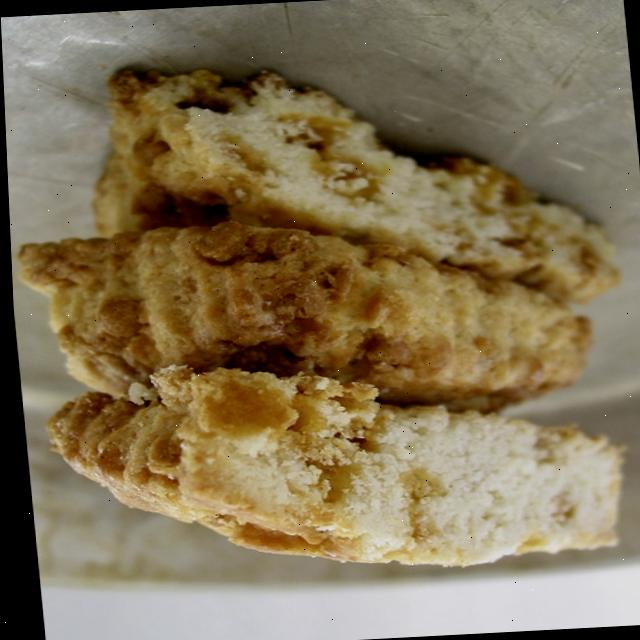面包点心: (0, 10, 640, 621)
